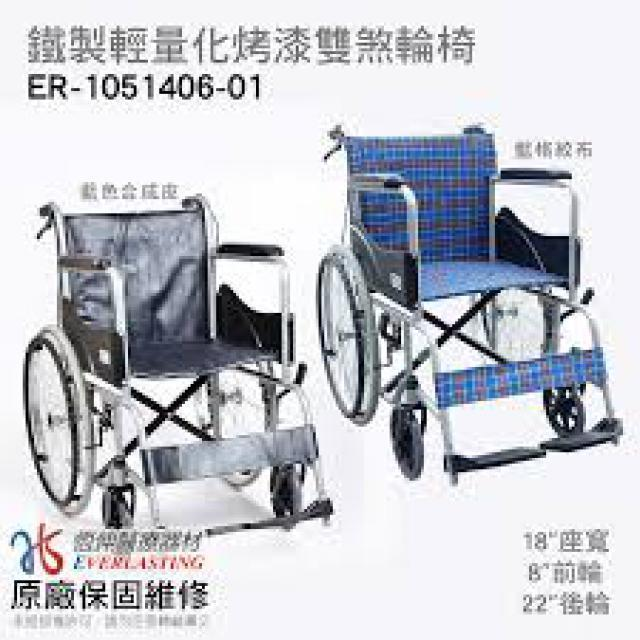wheelchairs: (320, 122, 623, 483), (25, 200, 334, 537)
